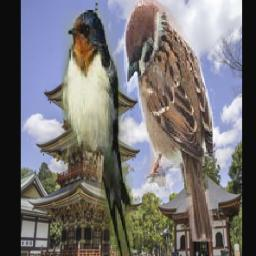Sparrow: (124, 0, 215, 242)
Swallow: (62, 11, 134, 256)
